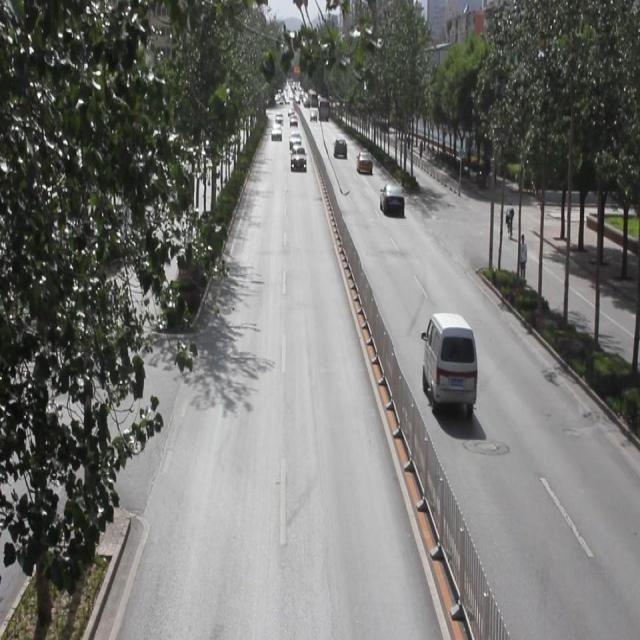car: (380, 180, 406, 217), (289, 143, 307, 171), (356, 148, 373, 174), (333, 136, 348, 159), (289, 129, 302, 152), (270, 122, 283, 143)
truck: (421, 311, 477, 408)
